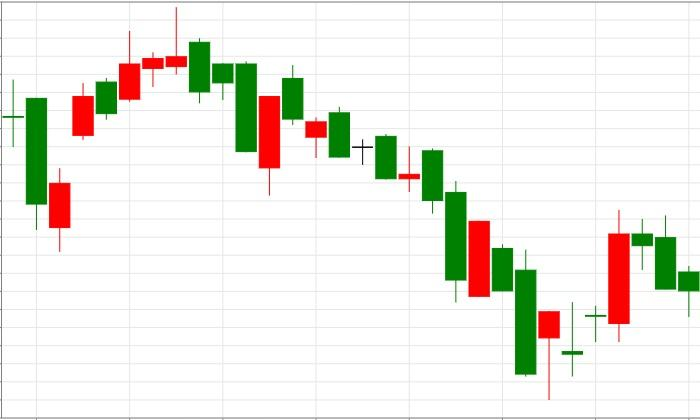hammer_rise: (422, 148, 560, 400)
